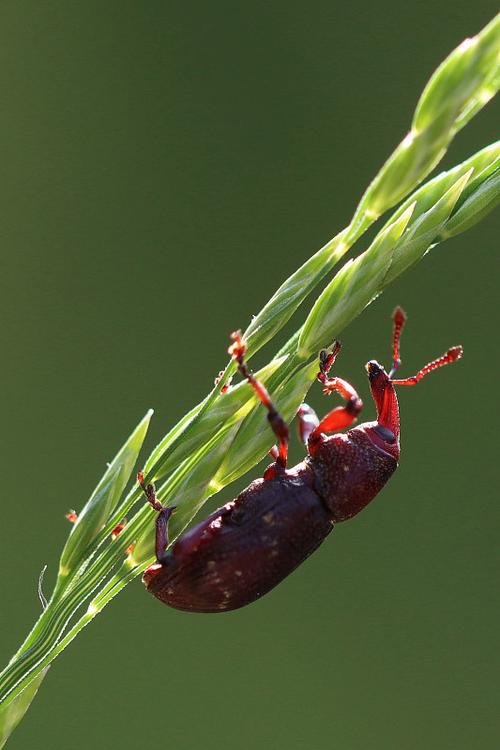Curculionidae: (64, 303, 463, 615)
